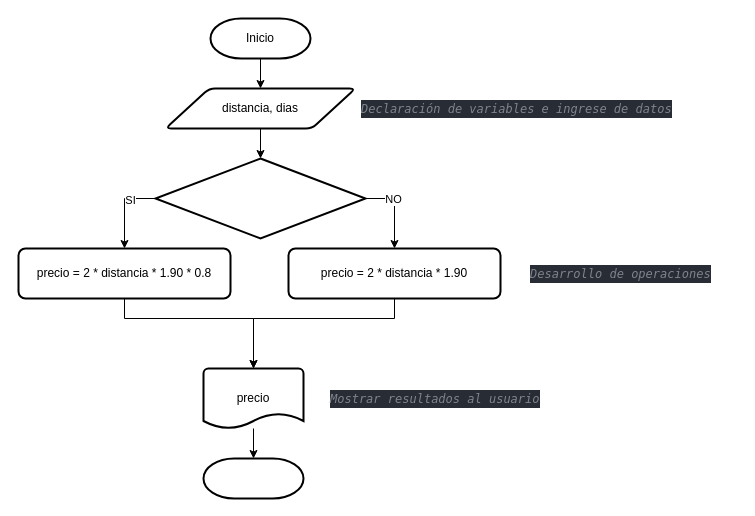
This 755x516 diagram has some shape labels left out. The shapes that lost their labels are listed below. From the top down, each one's box as (x1, y1, x2, y2) in pixels, then its label:
(154, 157, 366, 239): (distancia*2) > 500 and dias > 10
(202, 457, 304, 499): Fin
